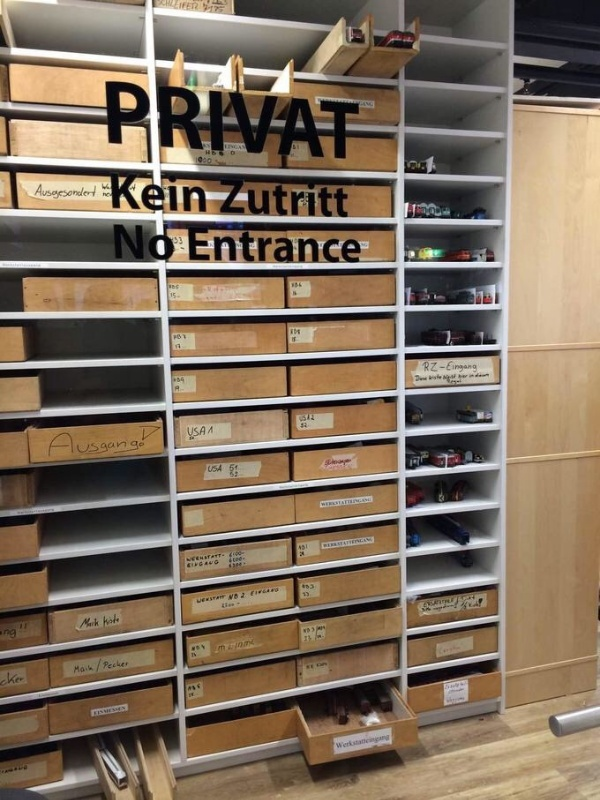text: (113, 80, 128, 163), (129, 80, 144, 163), (145, 80, 160, 163), (161, 80, 176, 163), (177, 80, 192, 163), (193, 80, 208, 163), (209, 80, 224, 163), (225, 80, 240, 163), (241, 80, 256, 163), (257, 80, 272, 163), (273, 80, 288, 163), (289, 80, 304, 163), (305, 80, 320, 163), (321, 80, 336, 163), (337, 80, 352, 163), (353, 80, 361, 163), (113, 171, 128, 214), (129, 171, 144, 214), (145, 171, 160, 214), (161, 171, 176, 214), (177, 171, 192, 214), (193, 171, 208, 214), (225, 179, 240, 219), (241, 179, 256, 219), (257, 179, 272, 219), (273, 179, 288, 219), (289, 179, 304, 219), (305, 179, 320, 219), (321, 179, 336, 219), (105, 80, 112, 163), (113, 224, 128, 262), (129, 224, 144, 262), (145, 224, 160, 262), (193, 227, 208, 264), (209, 227, 224, 264), (225, 227, 240, 264), (241, 227, 256, 264), (257, 227, 272, 264), (273, 227, 288, 264), (289, 227, 304, 264), (305, 227, 320, 264), (321, 227, 336, 264), (337, 227, 352, 264), (161, 224, 175, 262), (337, 179, 350, 219), (49, 427, 64, 459), (65, 427, 80, 459), (81, 427, 96, 459), (97, 427, 112, 459), (113, 427, 128, 459), (129, 427, 144, 459), (145, 427, 160, 459), (353, 227, 363, 264), (113, 656, 129, 676), (1, 622, 16, 643), (433, 596, 448, 616), (449, 596, 464, 616), (465, 596, 480, 616), (81, 656, 96, 676), (97, 656, 112, 676), (1, 669, 16, 689), (209, 589, 224, 608), (225, 589, 240, 608), (241, 589, 256, 608), (257, 589, 272, 608), (97, 614, 112, 631), (49, 185, 64, 201), (65, 185, 80, 201), (81, 185, 96, 201), (17, 622, 28, 643), (196, 589, 208, 608), (193, 555, 208, 570), (209, 555, 224, 570), (337, 735, 352, 750), (353, 735, 368, 750), (369, 735, 384, 750), (225, 640, 240, 655), (241, 640, 256, 655), (1, 763, 16, 778), (433, 360, 448, 374), (449, 360, 464, 374), (161, 1, 176, 15), (177, 1, 192, 15), (193, 1, 208, 15), (209, 1, 224, 15), (227, 553, 240, 569), (84, 614, 96, 631), (219, 179, 224, 219), (422, 596, 432, 616), (177, 377, 187, 396), (465, 360, 478, 374), (17, 763, 29, 778), (193, 427, 208, 438), (305, 415, 316, 430), (229, 464, 240, 479), (97, 707, 112, 718), (421, 360, 432, 374), (113, 707, 127, 718), (321, 498, 336, 508), (337, 498, 352, 508), (353, 498, 368, 508), (337, 538, 352, 548), (353, 538, 368, 548), (305, 633, 320, 643), (188, 227, 192, 264), (337, 460, 353, 469), (39, 185, 48, 201), (322, 538, 336, 548), (73, 656, 80, 676), (17, 669, 24, 689), (417, 373, 432, 382), (433, 373, 448, 382), (449, 373, 464, 382), (465, 373, 480, 382), (113, 183, 128, 192), (209, 141, 224, 150), (225, 141, 240, 150), (209, 241, 224, 250), (225, 241, 240, 250), (241, 241, 256, 250), (305, 625, 320, 634), (449, 683, 464, 692), (449, 697, 464, 706), (306, 663, 320, 672), (113, 614, 120, 631), (209, 465, 222, 474), (273, 589, 279, 608), (113, 192, 129, 199), (196, 156, 208, 165), (321, 242, 336, 249), (337, 242, 352, 249), (353, 242, 368, 249), (289, 239, 304, 246), (225, 603, 240, 610), (291, 329, 304, 337), (325, 460, 336, 469), (101, 183, 112, 192), (241, 553, 247, 569), (292, 282, 304, 290), (193, 645, 206, 652), (186, 555, 192, 570), (209, 150, 224, 156), (218, 640, 224, 655), (481, 373, 490, 382), (177, 333, 187, 341), (481, 596, 485, 616), (293, 337, 304, 344), (305, 584, 316, 591), (172, 377, 176, 396), (299, 415, 304, 430), (385, 735, 390, 750), (102, 192, 112, 199), (225, 1, 230, 15), (225, 150, 236, 156), (449, 380, 462, 385), (193, 685, 201, 693), (167, 284, 176, 291), (129, 183, 136, 192), (311, 242, 320, 249), (321, 663, 328, 672), (209, 427, 214, 438), (293, 292, 304, 297), (293, 247, 304, 252), (202, 141, 208, 150), (241, 141, 247, 150), (299, 544, 304, 553), (188, 427, 192, 438), (111, 171, 112, 214), (169, 293, 176, 299), (369, 498, 373, 508), (299, 552, 304, 560), (321, 625, 325, 634), (305, 592, 310, 599), (161, 427, 162, 459), (188, 685, 192, 693), (369, 538, 372, 548), (321, 633, 324, 643), (158, 1, 160, 15), (188, 694, 192, 701), (177, 343, 181, 350), (305, 544, 308, 553), (413, 373, 416, 382), (209, 156, 212, 165), (445, 683, 448, 692), (173, 333, 176, 341), (204, 150, 208, 156), (94, 707, 96, 718), (177, 284, 180, 291), (301, 584, 304, 591), (301, 592, 304, 599), (193, 653, 196, 659), (97, 185, 98, 201), (225, 555, 226, 570), (222, 603, 224, 610), (193, 694, 195, 701), (190, 653, 192, 659), (446, 380, 448, 385), (207, 241, 208, 250), (303, 625, 304, 634), (465, 683, 466, 692), (447, 697, 448, 706), (465, 697, 466, 706), (241, 603, 242, 610), (191, 645, 192, 652), (175, 343, 176, 350)
